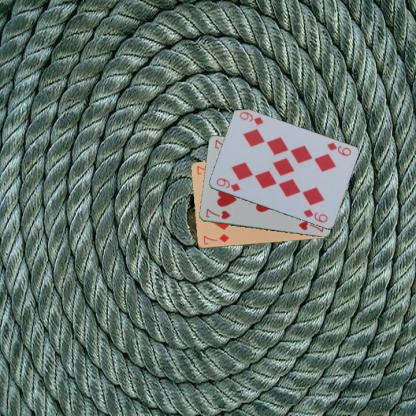7d: (200, 232, 230, 246)
7h: (203, 206, 231, 220)
9d: (213, 176, 242, 193), (324, 140, 352, 157)
